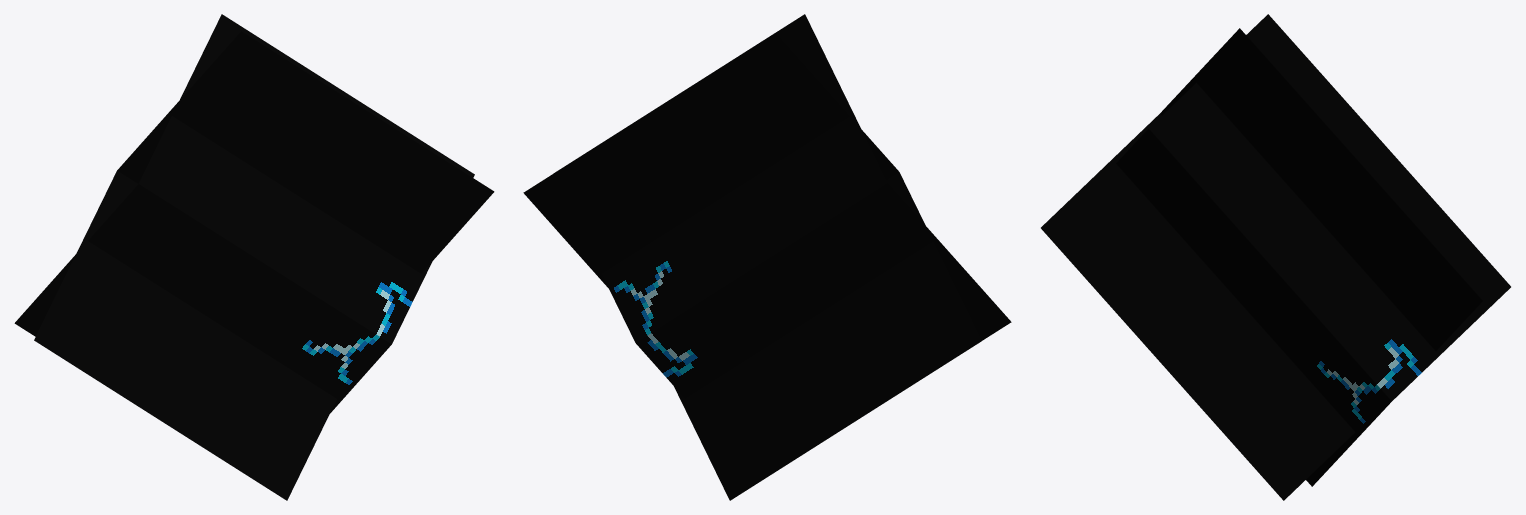
File: herosword.gltf
3 views of the same model, side by side, from view 1: azimuth 30°, elevation 25°; view 2: azimuth 150°, elevation 25°; view 3: azimuth 330°, elevation 25° (orthographic). The views are drawn at different scales.
Parts seen in each view (by area): view 1: Lightning (×4); view 2: Lightning (×4); view 3: Lightning (×4).
Boxes of the visible parts, bbox=[...] form: Lightning (×4): bbox=[14, 14, 494, 500]; Lightning (×4): bbox=[523, 14, 1011, 500]; Lightning (×4): bbox=[1041, 14, 1510, 500].
Bounding box in the file's own units: 1.41 × 1.4 × 0.1289.
2 materials, 2 textured.
